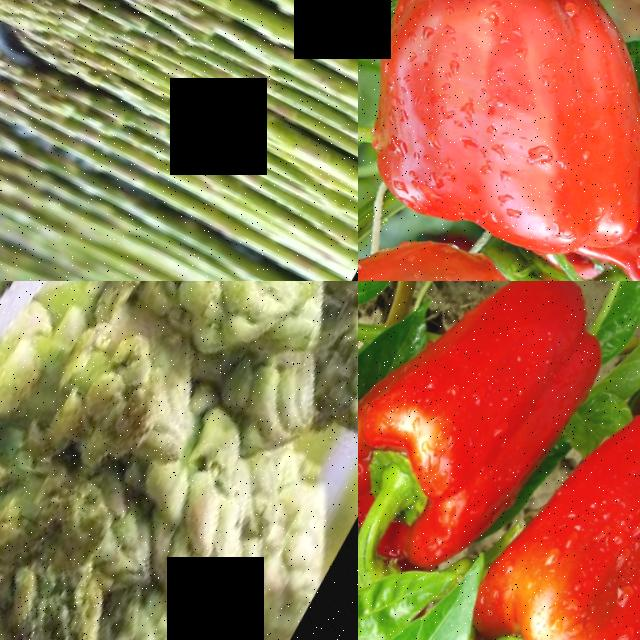asparagus: (0, 292, 225, 506), (4, 0, 358, 126), (84, 281, 358, 386)
bell pepper: (358, 281, 627, 580), (358, 0, 640, 281), (480, 360, 640, 640), (358, 215, 619, 281)
